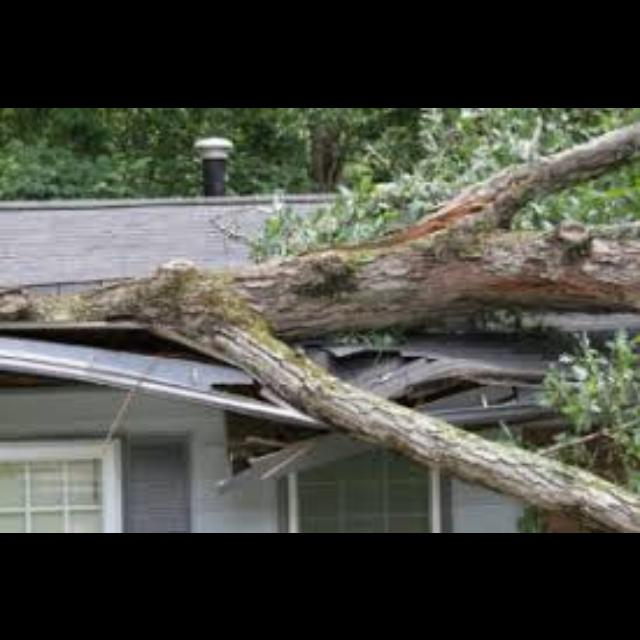Fallen Tree: (0, 219, 639, 354)
